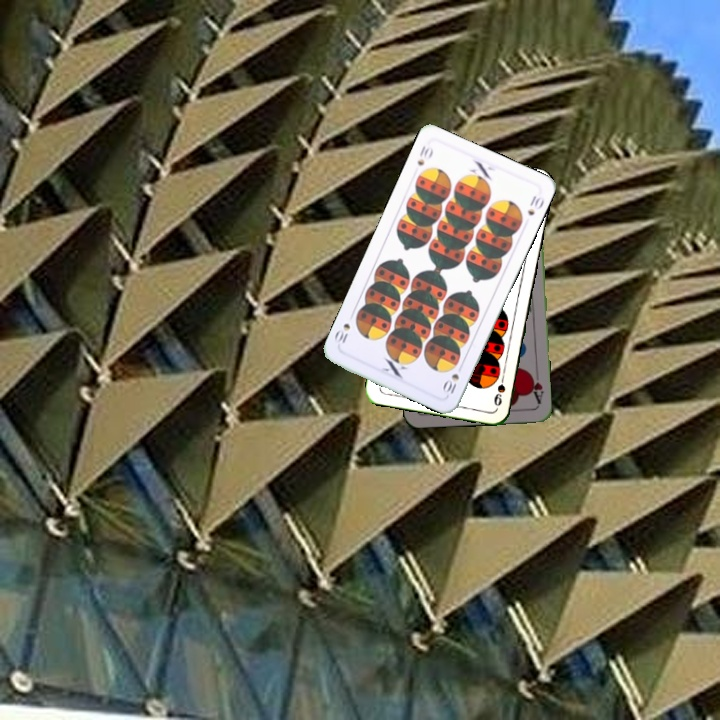HA: (526, 367, 546, 406)
S10: (439, 360, 466, 399), (413, 141, 436, 168)
S9: (490, 369, 508, 409)
